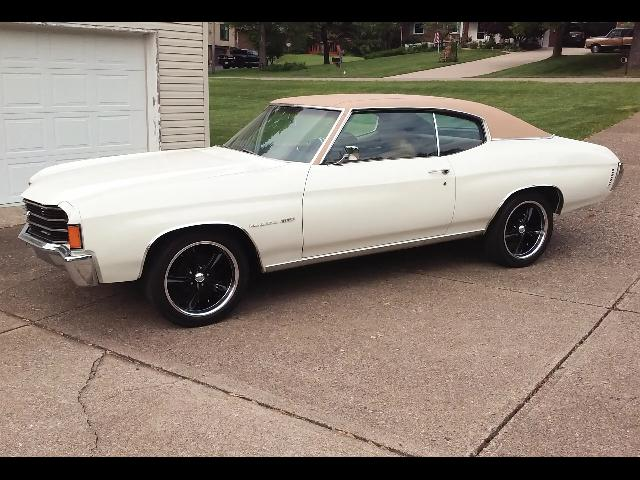chevelle-1972: (19, 94, 623, 327)
